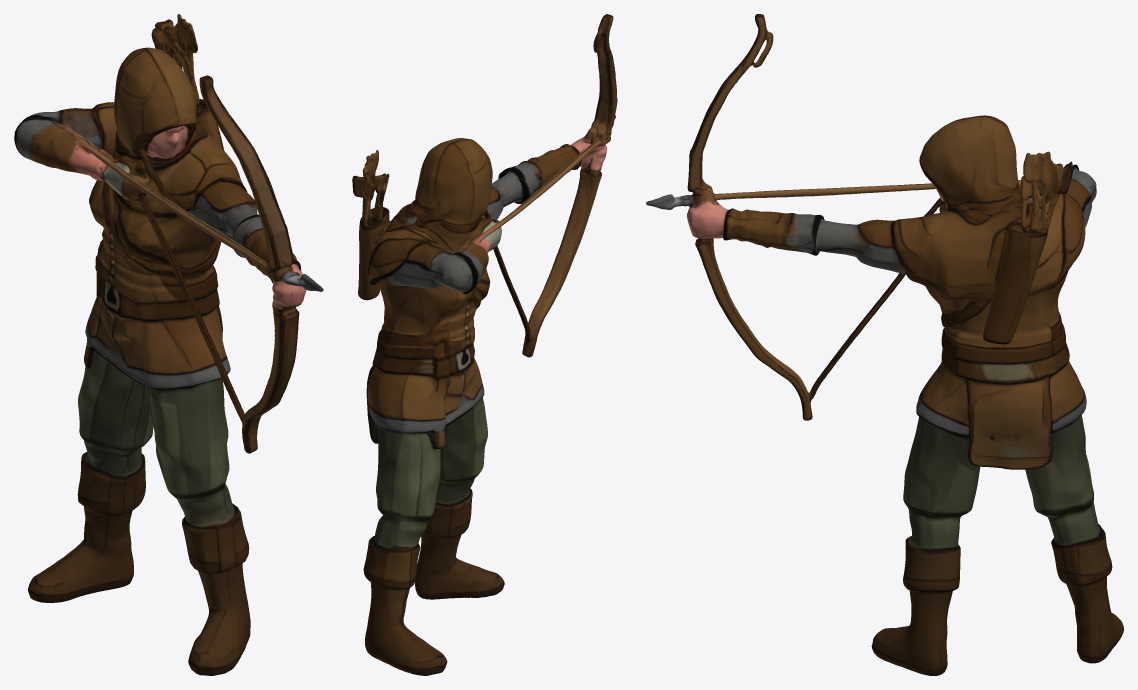
The model's file is bowman.glb.
3 views of the same model, side by side, from view 1: azimuth 30°, elevation 25°; view 2: azimuth 150°, elevation 25°; view 3: azimuth 270°, elevation 25° (orthographic). The views are drawn at different scales.
Visible parts, largest first — view 1: world; view 2: world; view 3: world.
Boxes of the visible parts, left/top/right/bottom form: world: left=14, top=14, right=323, bottom=675; world: left=352, top=14, right=617, bottom=675; world: left=646, top=14, right=1123, bottom=675.
Size of the model in its own units: 0.2919 by 1 by 0.7169.
1 material, 1 textured.
